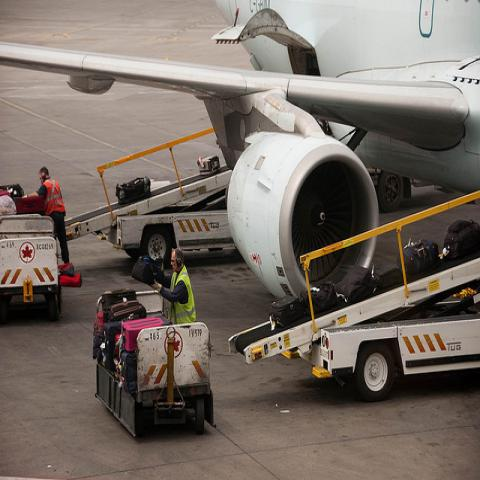truck: (227, 182, 479, 404), (66, 124, 234, 268), (95, 326, 215, 441), (0, 214, 62, 324)
